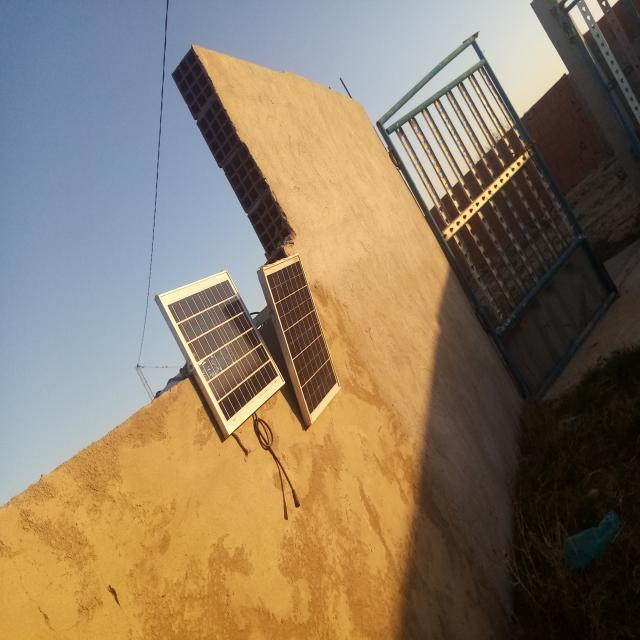no faulty: (158, 271, 285, 434), (263, 254, 341, 424)
